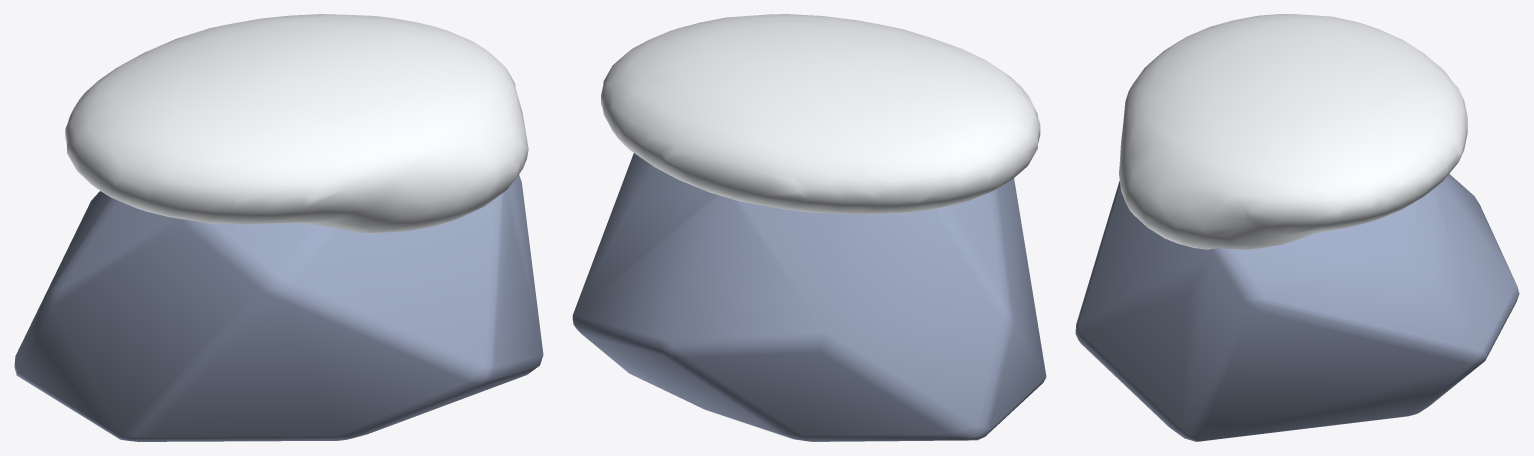
The model's file is snow_rock_a.glb.
3 renders of one model, left to right at view 1: azimuth 30°, elevation 25°; view 2: azimuth 150°, elevation 25°; view 3: azimuth 270°, elevation 25°, orthographic. The views are drawn at different scales.
Parts seen in each view (by area): view 1: Boulder0, BoulderSnow0; view 2: Boulder0, BoulderSnow0; view 3: Boulder0, BoulderSnow0.
Boxes of the visible parts, left/top/right/bottom form: Boulder0: left=14, top=175, right=543, bottom=441; BoulderSnow0: left=65, top=14, right=528, bottom=233; Boulder0: left=572, top=153, right=1046, bottom=441; BoulderSnow0: left=601, top=14, right=1040, bottom=214; Boulder0: left=1075, top=174, right=1519, bottom=441; BoulderSnow0: left=1119, top=14, right=1467, bottom=249.
Bounding box in the file's own units: 1.5 × 1.04 × 1.45.
